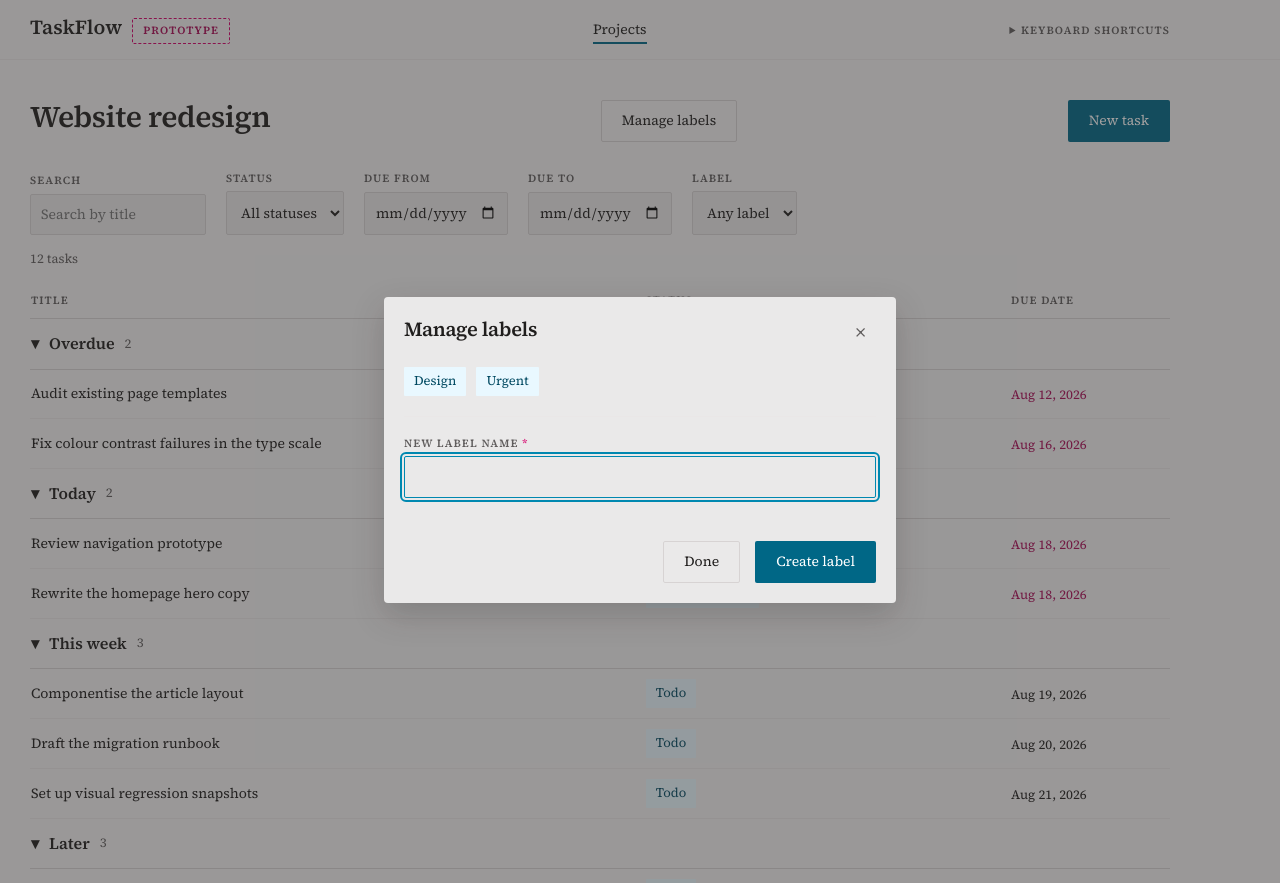
ManageLabelsDialog › Done closes the dialog without discarding already-created labels
Expected: the text "Design" is shown, [404,367,466,396]
What coordinates should you click on to do the following:
click the button "Done"
I would click on:
 (702, 562)
Its box is [663,541,740,583].
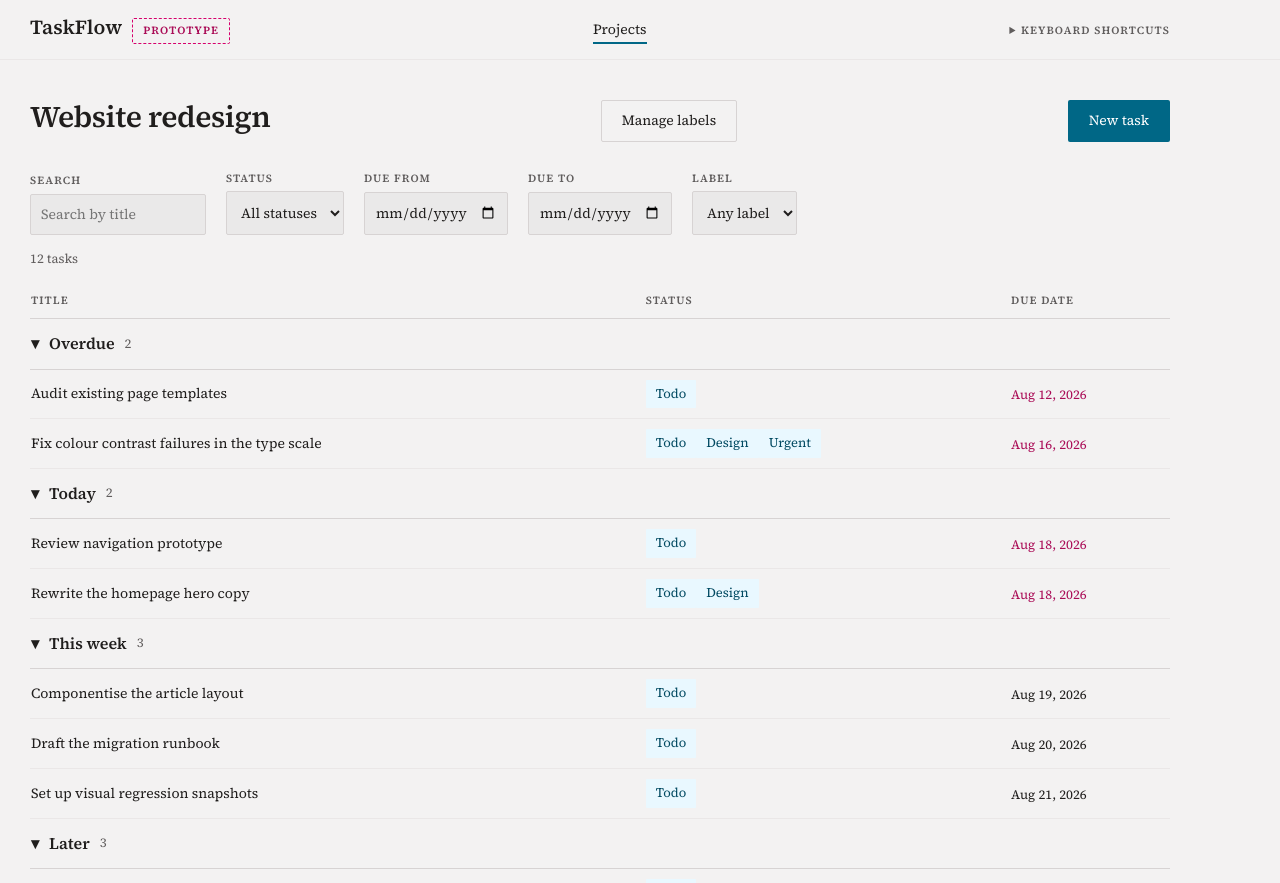
Expected: the dialog is gone
